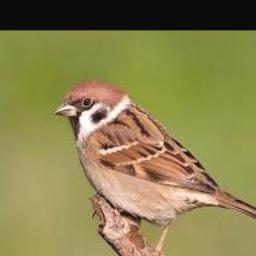Sparrow: (53, 81, 256, 251)
